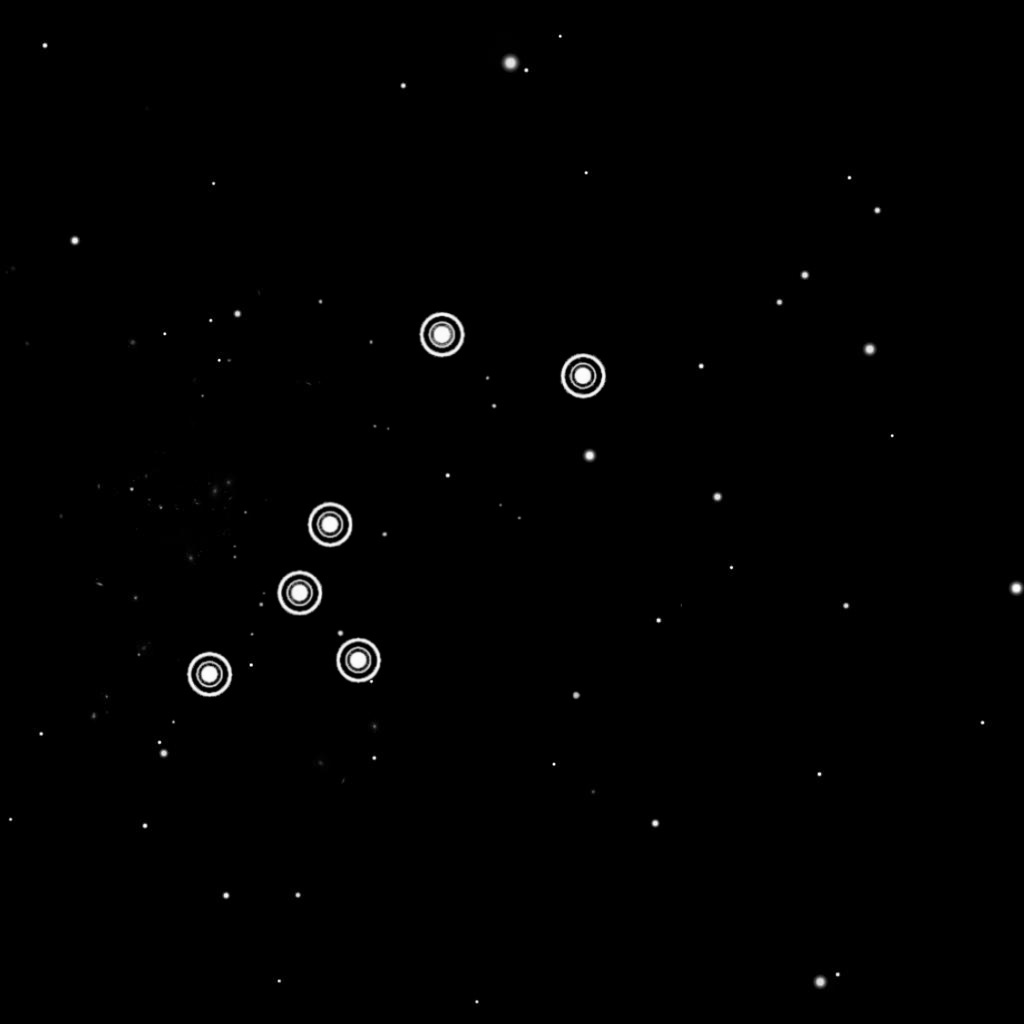canis_major: (174, 306, 618, 711)
